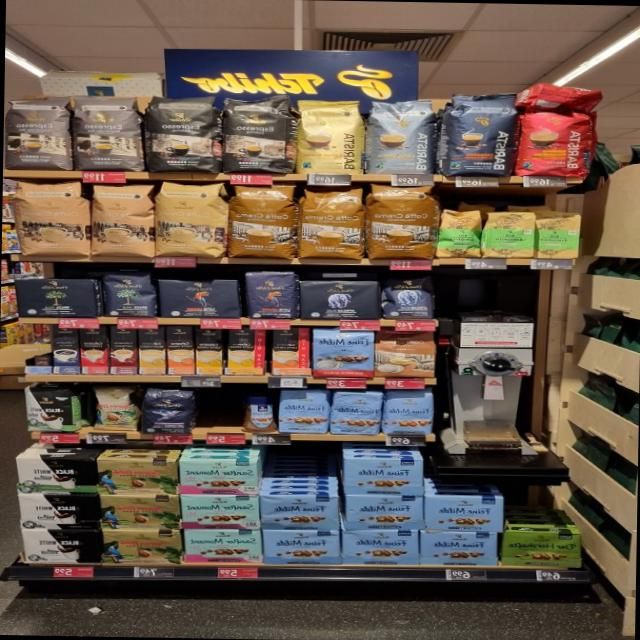AB Bohne: (380, 274, 437, 320)
AB Gemahlen: (298, 280, 381, 320)
Athiopien Bohne: (435, 209, 484, 261)
Athiopien Gemahlen: (479, 211, 536, 259), (535, 212, 581, 260)
BM Bohne: (97, 270, 156, 317)
BM Gemahlen: (13, 277, 100, 318)
BW Bohne: (20, 385, 80, 432)
BW Gemahlen: (14, 456, 99, 494), (15, 494, 100, 530), (18, 530, 102, 563)
Barista CB: (293, 97, 365, 176)
Barista CC: (363, 96, 435, 174)
Barista Espresso: (439, 91, 518, 177)
Barista Kolumbien: (514, 108, 604, 177)
C Fino Bohne: (138, 388, 195, 435)
CC Mild: (9, 182, 90, 257), (153, 182, 226, 259), (89, 181, 155, 260)
CC Vollmundig: (373, 331, 436, 378)
CC Vollmundig 36 Pads: (364, 185, 440, 260), (227, 185, 297, 260), (295, 186, 365, 260)
Colombia BB Bohne: (90, 384, 138, 431)
Colombia BB Gemahlen: (96, 458, 179, 495), (101, 529, 185, 564), (99, 495, 182, 529)
Empty Shelf: (194, 388, 239, 432), (23, 324, 50, 365)
Espresso Aromatisch: (69, 90, 146, 171), (3, 94, 72, 171)
Espresso Kraftig: (219, 92, 292, 174), (145, 92, 218, 174)
FM 36 Pads: (310, 329, 375, 378)
FM Bohne: (329, 390, 385, 435), (383, 389, 435, 434), (277, 389, 329, 434)
FM Gemahlen: (342, 457, 426, 495), (422, 496, 505, 532), (258, 494, 340, 530), (344, 494, 425, 530), (420, 530, 499, 566), (341, 529, 420, 565), (261, 530, 340, 565)
FM Instant: (240, 393, 278, 432)
Herzhatfe Mundig: (501, 531, 582, 568)
LG Bohne: (244, 269, 298, 321)
LG Gemahlen: (156, 278, 243, 318)
SM Gemahlen: (178, 494, 261, 529), (183, 528, 265, 563), (179, 460, 259, 494)
Simo CCMild: (226, 329, 265, 374)
Simo CCMild bigpack: (194, 328, 222, 374)
Simo CCVollmundig: (271, 327, 310, 376)
Simo CCVollmundig bigpack: (166, 326, 195, 375)
Simo Decaff: (137, 326, 165, 374)
Simo Es Brazil: (79, 326, 108, 374)
Simo Es Caramel: (109, 326, 137, 374)
Simo Es Kraft: (51, 324, 80, 374)
